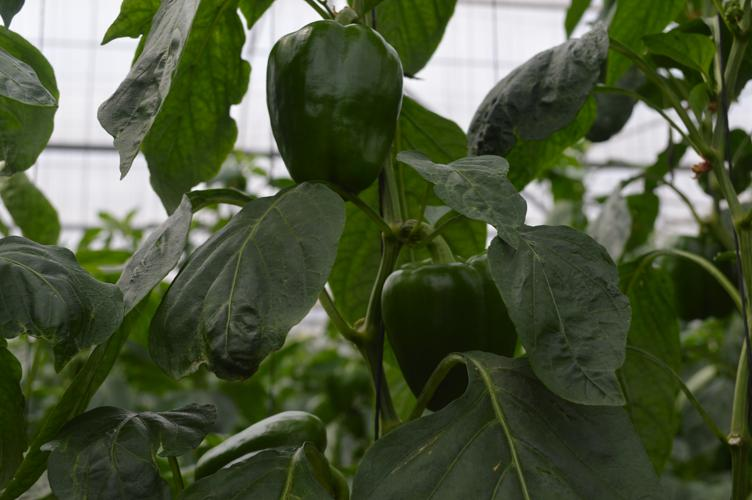BellPepper: (270, 20, 405, 192), (382, 257, 522, 404), (666, 237, 738, 322)
